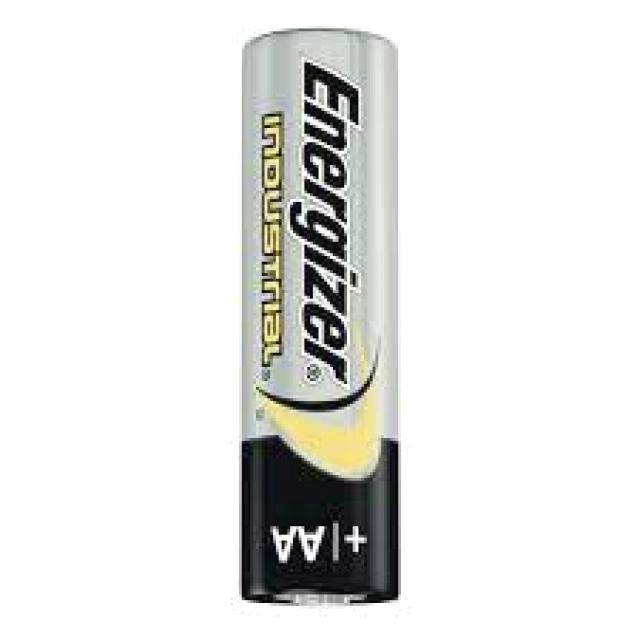battery: (241, 29, 402, 609)
